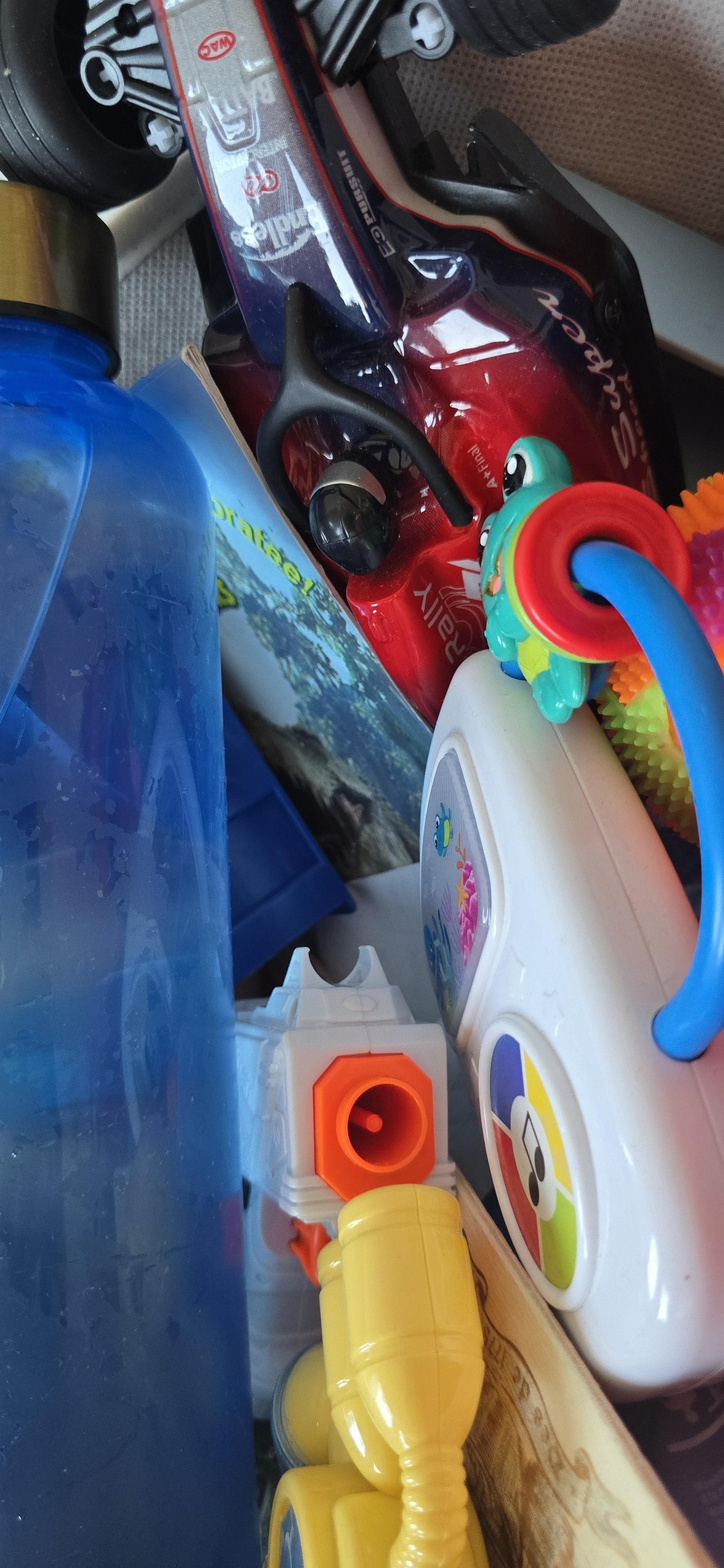bottle: (8, 162, 251, 1568)
